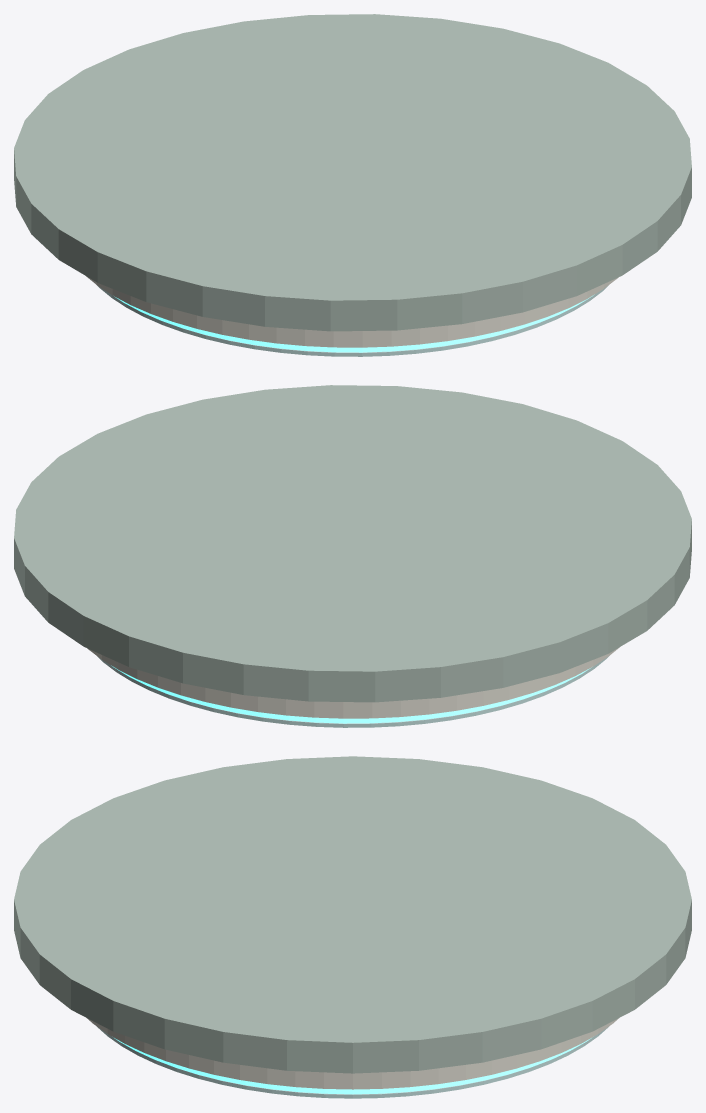
The model's file is s7-lc3-corridor-ceiling-ring-medium.glb.
3 views of the same model, one above another, from view 1: azimuth 30°, elevation 25°; view 2: azimuth 150°, elevation 25°; view 3: azimuth 270°, elevation 25° (orthographic).
Visible parts, largest first — view 1: 000_corridor_ceiling_backplate_0, 001_ceiling_recessed_bezel_0, 003_ring_diffuser_0, 002_recessed_ring_emitter_0; view 2: 000_corridor_ceiling_backplate_0, 001_ceiling_recessed_bezel_0, 003_ring_diffuser_0, 002_recessed_ring_emitter_0; view 3: 000_corridor_ceiling_backplate_0, 001_ceiling_recessed_bezel_0, 003_ring_diffuser_0, 002_recessed_ring_emitter_0.
Part boxes in pixels (x1,y1,x2,y2): 000_corridor_ceiling_backplate_0: [14, 14, 691, 331]; 001_ceiling_recessed_bezel_0: [86, 276, 618, 347]; 003_ring_diffuser_0: [97, 285, 608, 356]; 002_recessed_ring_emitter_0: [114, 294, 594, 352]; 000_corridor_ceiling_backplate_0: [14, 385, 691, 702]; 001_ceiling_recessed_bezel_0: [87, 647, 619, 718]; 003_ring_diffuser_0: [97, 656, 608, 727]; 002_recessed_ring_emitter_0: [111, 665, 591, 723]; 000_corridor_ceiling_backplate_0: [14, 756, 691, 1073]; 001_ceiling_recessed_bezel_0: [87, 1018, 618, 1089]; 003_ring_diffuser_0: [97, 1027, 608, 1098]; 002_recessed_ring_emitter_0: [114, 1038, 591, 1094].
Bounding box in the file's own units: 0.64 × 0.088 × 0.64.
